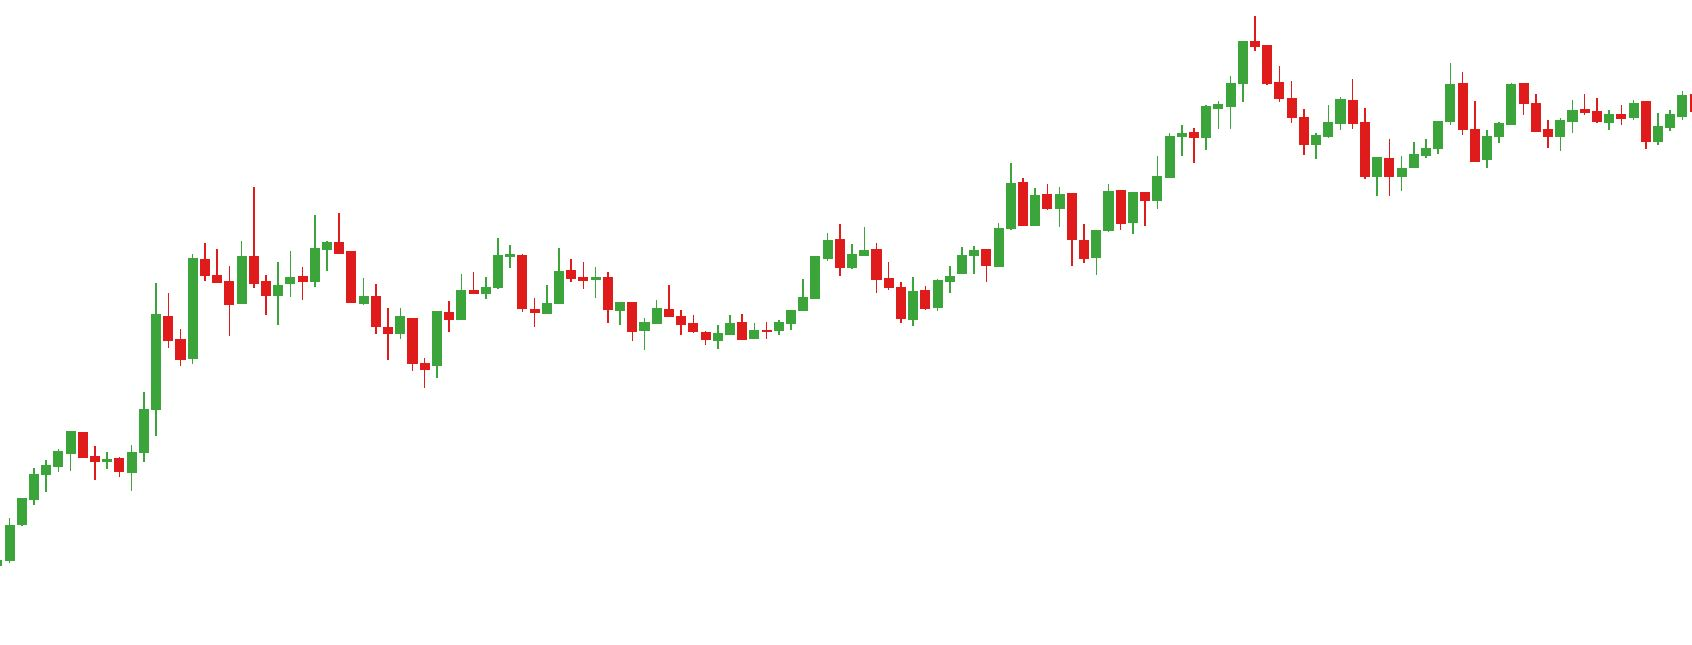sell: (1347, 61, 1470, 156)
